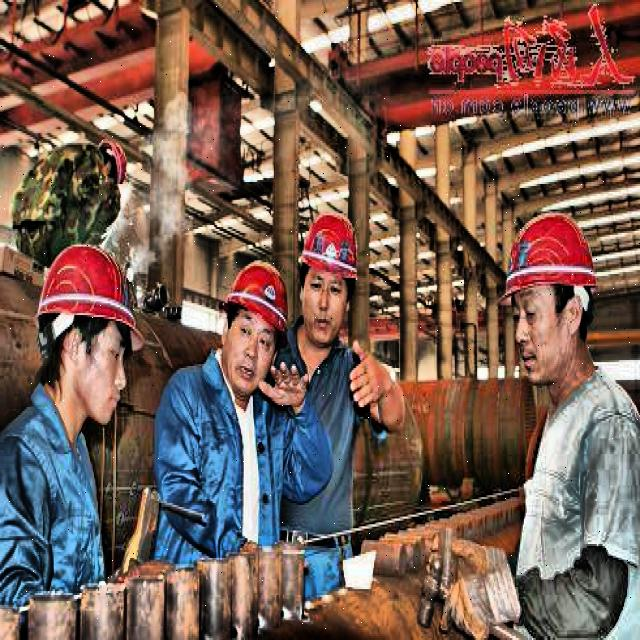helmet: (488, 198, 604, 400), (31, 229, 148, 427), (290, 202, 368, 341), (215, 256, 293, 394), (92, 133, 134, 190)
